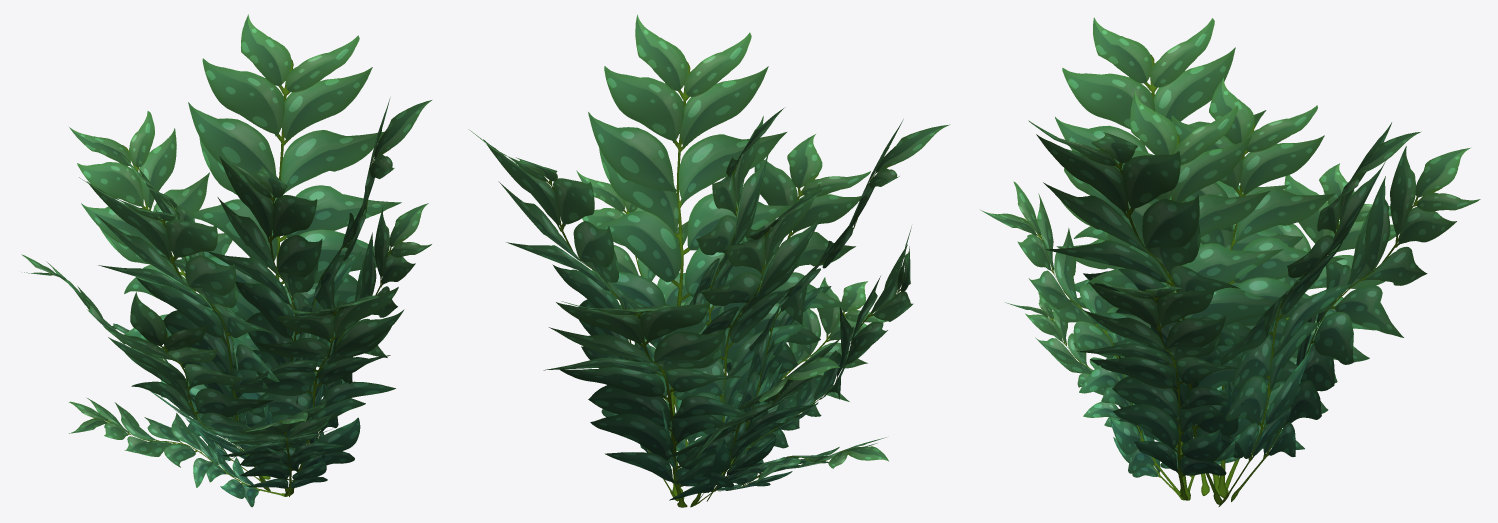
The model's file is plant_05.fbx.
3 renders of one model, left to right at view 1: azimuth 30°, elevation 25°; view 2: azimuth 150°, elevation 25°; view 3: azimuth 270°, elevation 25°, orthographic. The views are drawn at different scales.
Visible parts, largest first — view 1: plant_52, plant_55, plant_60, plant_57, plant_05, plant_56, plant_62, plant_61, plant_58, plant_59, plant_54, plant_53; view 2: plant_59, plant_05, plant_54, plant_52, plant_60, plant_53, plant_57, plant_55, plant_56, plant_61, plant_58, plant_62; view 3: plant_59, plant_58, plant_05, plant_57, plant_54, plant_52, plant_55, plant_60, plant_53, plant_61, plant_56.
Part boxes in pixels (x1,y1,x2,y2): plant_52: (179, 14, 401, 399); plant_55: (79, 177, 282, 481); plant_60: (229, 287, 404, 495); plant_57: (207, 142, 328, 492); plant_05: (69, 111, 270, 479); plant_56: (103, 291, 290, 491); plant_62: (69, 397, 287, 507); plant_61: (222, 402, 344, 496); plant_58: (289, 203, 431, 496); plant_59: (288, 98, 431, 443); plant_54: (122, 155, 247, 425); plant_53: (21, 254, 261, 482); plant_59: (570, 14, 802, 500); plant_05: (543, 301, 752, 507); plant_54: (656, 183, 827, 506); plant_52: (468, 129, 677, 501); plant_60: (708, 134, 870, 492); plant_53: (668, 338, 840, 507); plant_57: (664, 107, 785, 439); plant_55: (693, 119, 949, 506); plant_56: (706, 226, 913, 501); plant_61: (708, 277, 887, 492); plant_58: (576, 170, 724, 450); plant_62: (715, 437, 888, 491); plant_59: (1028, 120, 1243, 504); plant_58: (1076, 277, 1244, 500); plant_05: (1231, 146, 1480, 501); plant_57: (1085, 91, 1283, 500); plant_54: (1169, 77, 1344, 497); plant_52: (1215, 122, 1421, 506); plant_55: (1055, 17, 1302, 496); plant_60: (980, 181, 1183, 499); plant_53: (1222, 163, 1400, 498); plant_61: (1005, 292, 1180, 498); plant_56: (1056, 140, 1209, 495).
Size of the model in its own units: 1.1 by 1.19 by 1.29.
